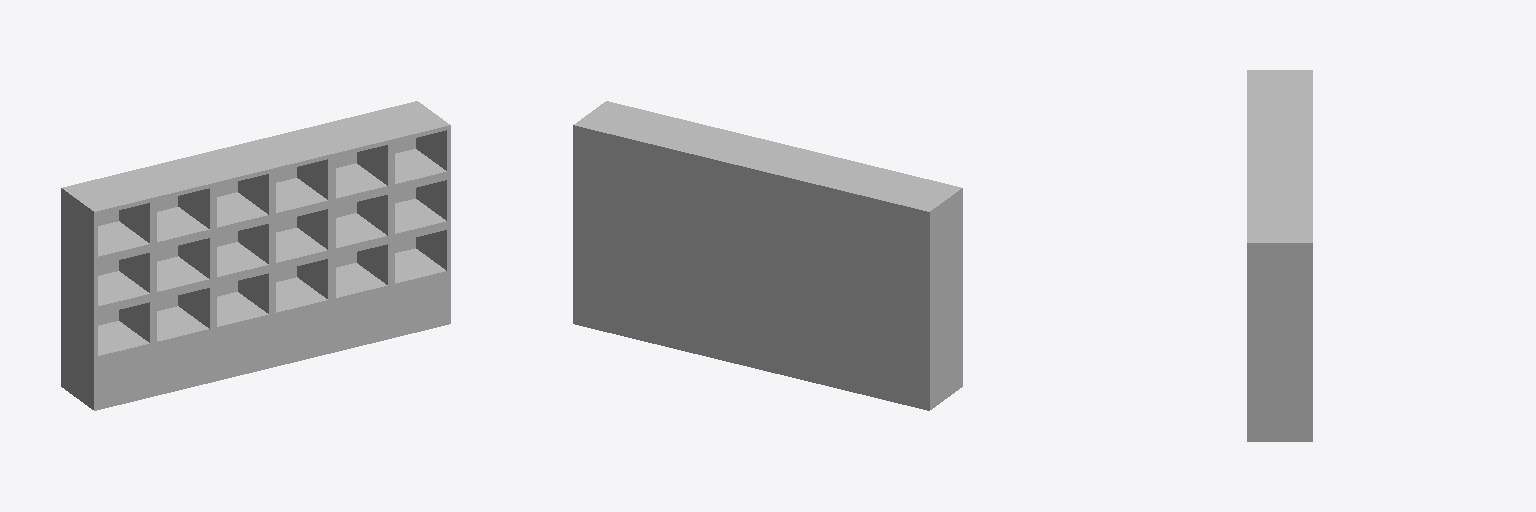
The model's file is shelf.obj.
The picture shows the model from 3 angles: view 1: azimuth 30°, elevation 25°; view 2: azimuth 150°, elevation 25°; view 3: azimuth 270°, elevation 25°; orthographic projection.
Visible parts, largest first — view 1: shelf; view 2: shelf; view 3: shelf.
Boxes of the visible parts, x1,y1,x2,y2 form: shelf: [61, 101, 450, 410]; shelf: [573, 101, 962, 410]; shelf: [1247, 70, 1312, 441].
Bounding box in the file's own units: 12.41 × 6.62 × 2.